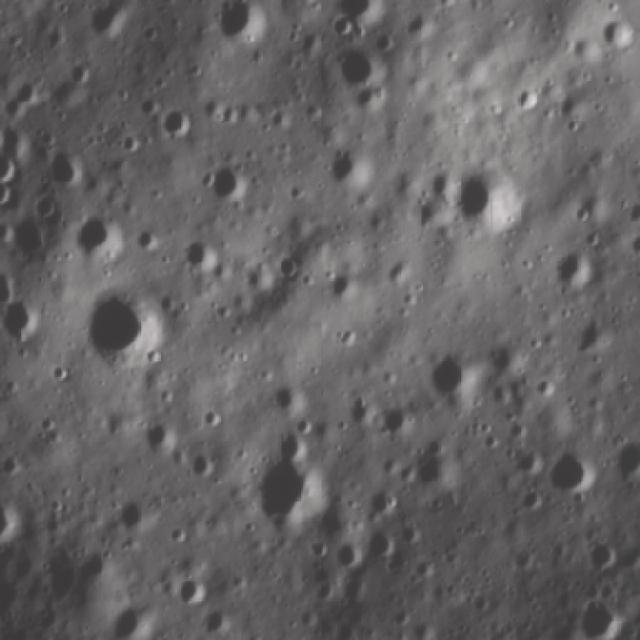crater: (82, 280, 183, 378), (254, 438, 332, 528), (444, 157, 522, 240), (408, 424, 466, 498), (62, 202, 127, 263), (322, 42, 392, 98), (200, 0, 271, 52), (424, 342, 481, 404), (321, 138, 377, 190), (207, 149, 256, 208), (543, 445, 594, 497), (172, 227, 228, 271), (43, 139, 94, 187), (550, 248, 602, 295), (78, 0, 138, 40), (0, 287, 43, 342), (164, 566, 216, 608), (6, 71, 46, 124), (111, 489, 158, 533), (258, 379, 308, 419), (592, 6, 634, 52), (0, 484, 29, 550), (580, 535, 622, 577), (135, 413, 177, 453), (344, 384, 382, 428), (263, 249, 309, 285), (0, 126, 28, 182), (366, 476, 402, 516), (329, 536, 363, 576), (63, 51, 95, 92), (186, 446, 222, 482), (612, 433, 640, 479), (366, 523, 399, 557), (331, 267, 360, 304)
